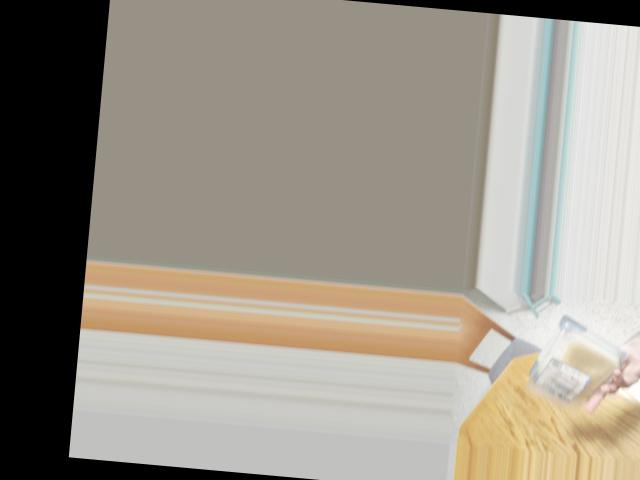cheese: (529, 329, 621, 407)
